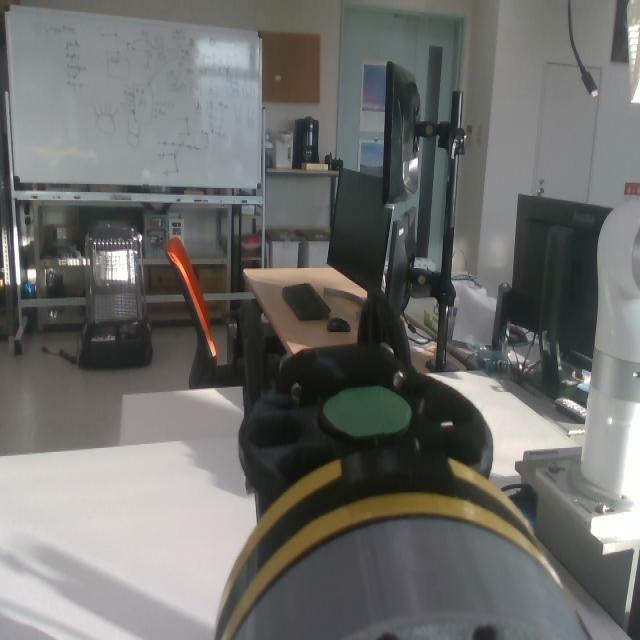body_connector: (233, 516, 592, 640)
connection: (214, 451, 589, 637)
leg: (212, 293, 552, 640)
leg_connector: (210, 449, 547, 637)
marker: (324, 389, 412, 436)
